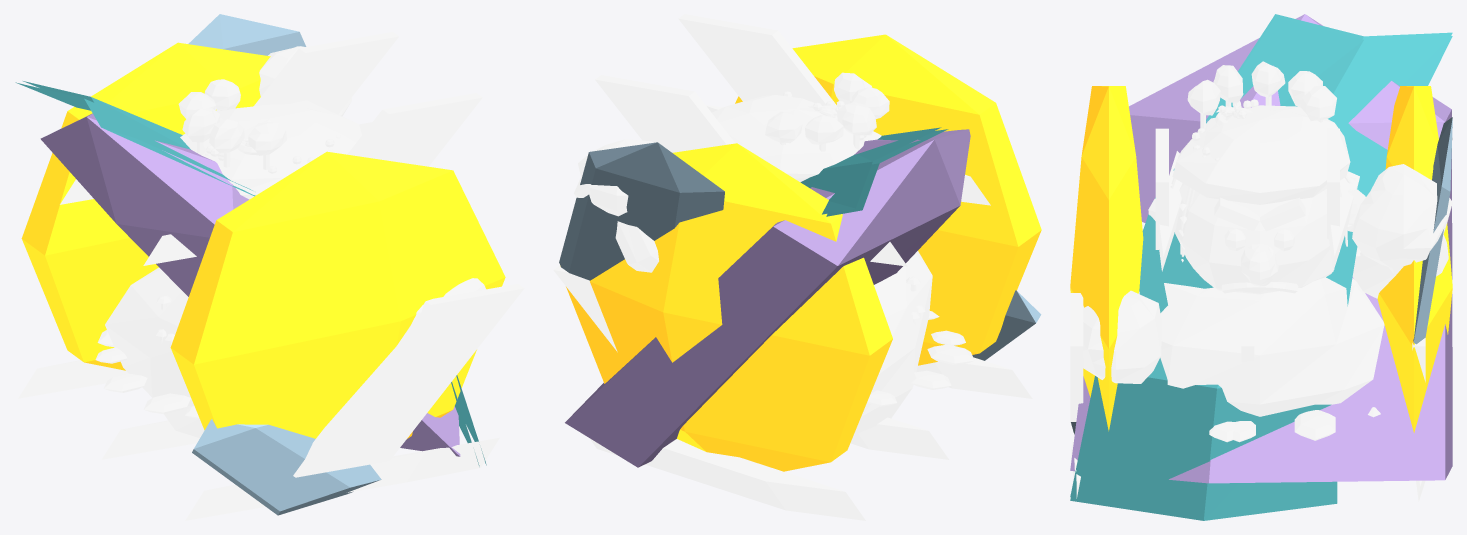
The model's file is maitre-geants-v5-leger.glb.
3 views of the same model, side by side, from view 1: azimuth 30°, elevation 25°; view 2: azimuth 150°, elevation 25°; view 3: azimuth 270°, elevation 25° (orthographic). The views are drawn at different scales.
Visible parts, largest first — view 1: maitre_geants_lumieres, maitre_geants_runes.001, maitre_geants_corps.001; view 2: maitre_geants_lumieres, maitre_geants_runes.001, maitre_geants_corps.001; view 3: maitre_geants_lumieres, maitre_geants_corps.001, maitre_geants_runes.001.
Boxes of the visible parts, x1,y1,x2,y2 form: maitre_geants_lumieres: (15, 14, 505, 515); maitre_geants_runes.001: (18, 32, 524, 520); maitre_geants_corps.001: (95, 46, 485, 438); maitre_geants_lumieres: (559, 34, 1041, 471); maitre_geants_runes.001: (553, 14, 1032, 520); maitre_geants_corps.001: (574, 72, 974, 434); maitre_geants_lumieres: (1070, 14, 1452, 520); maitre_geants_corps.001: (1083, 61, 1452, 442); maitre_geants_runes.001: (1070, 128, 1425, 501).
Bounding box in the file's own units: 2 × 2 × 2.
